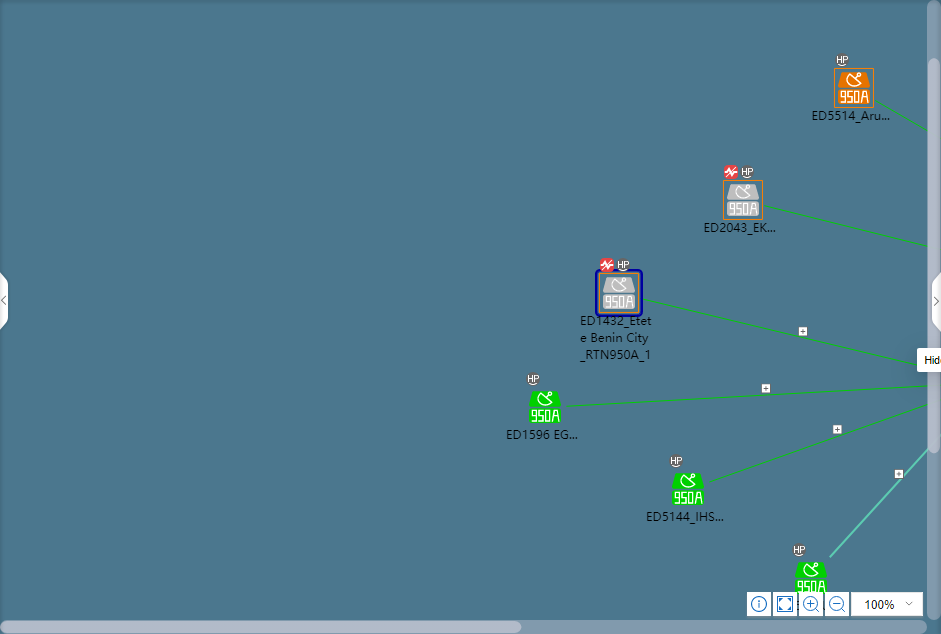Link_Blue: (828, 448, 927, 559)
Link_Green: (644, 297, 916, 368), (707, 402, 927, 484), (566, 385, 926, 408), (765, 203, 927, 249), (875, 98, 927, 133)
RTN_Gray: (600, 276, 635, 311), (725, 183, 760, 217)
RTN_Green: (672, 474, 703, 506), (529, 392, 560, 423), (795, 564, 826, 593)
RTN_Orange: (835, 71, 870, 105)
